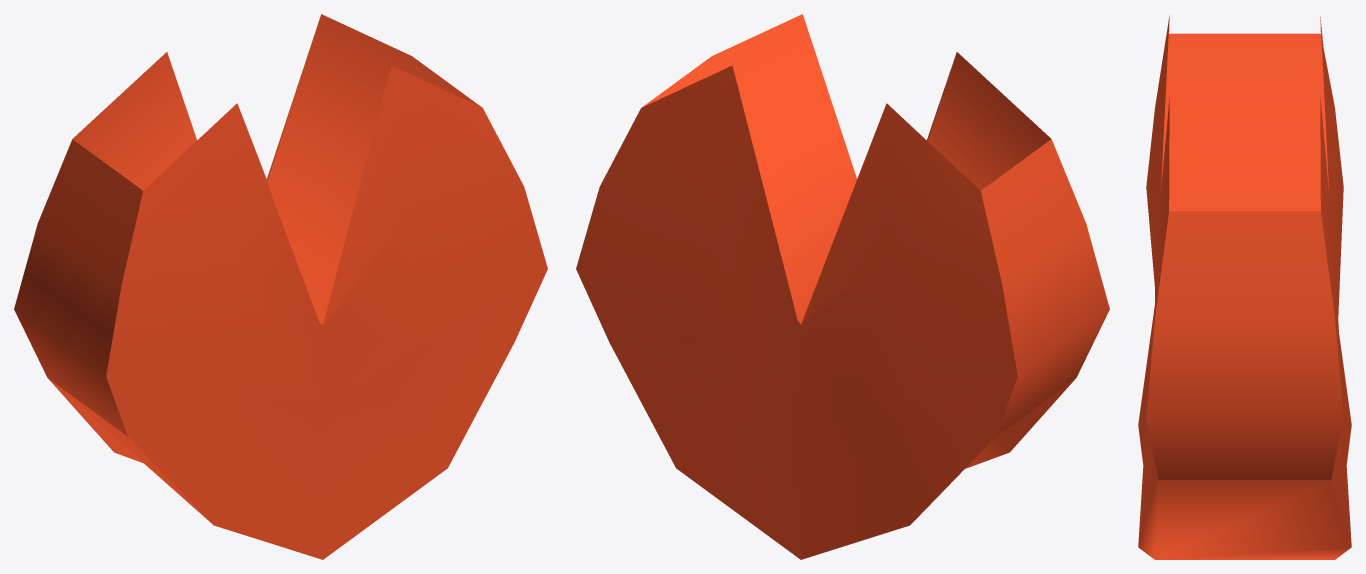
The model's file is Heart.fbx.
3 renders of one model, left to right at view 1: azimuth 30°, elevation 25°; view 2: azimuth 150°, elevation 25°; view 3: azimuth 270°, elevation 25°, orthographic. The views are drawn at different scales.
Visible parts, largest first — view 1: pCube2; view 2: pCube2; view 3: pCube2.
Boxes of the visible parts, x1,y1,x2,y2 form: pCube2: (14,14,547,559); pCube2: (576,14,1109,559); pCube2: (1138,15,1351,559).
Bounding box in the file's own units: 3.72 × 3.79 × 1.45.
